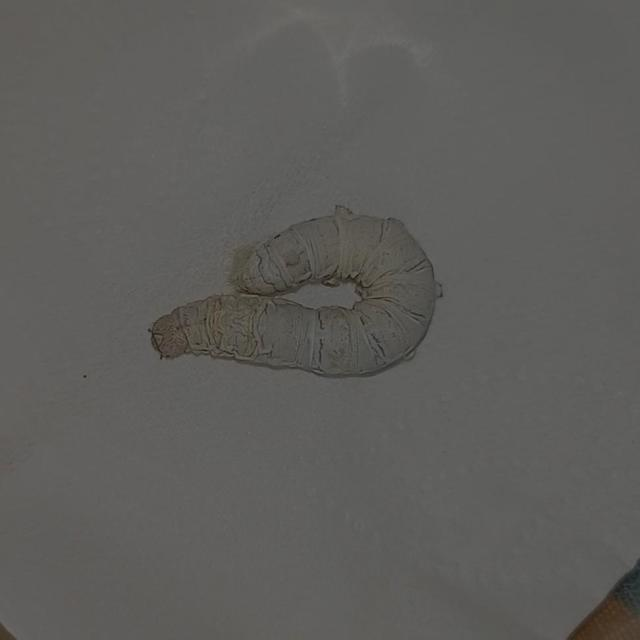Healthy: (133, 170, 461, 410)
